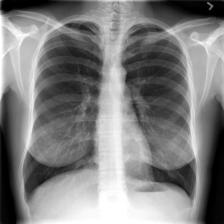normal: (17, 16, 200, 205)
